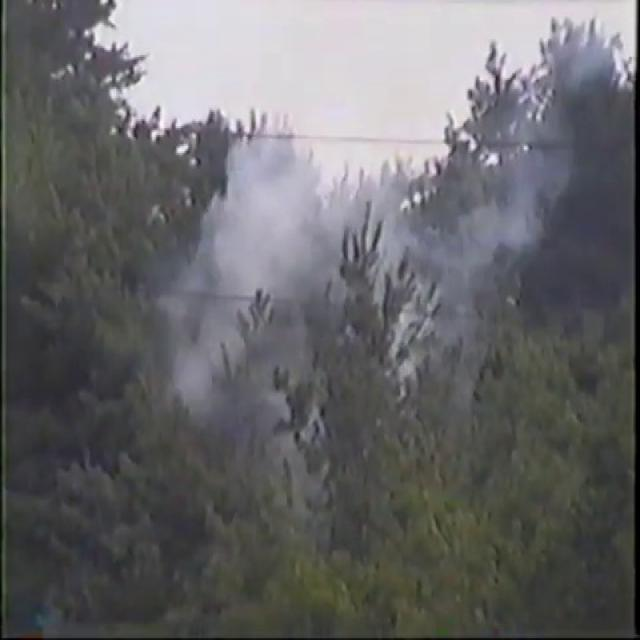Smoke: (156, 59, 439, 438)
